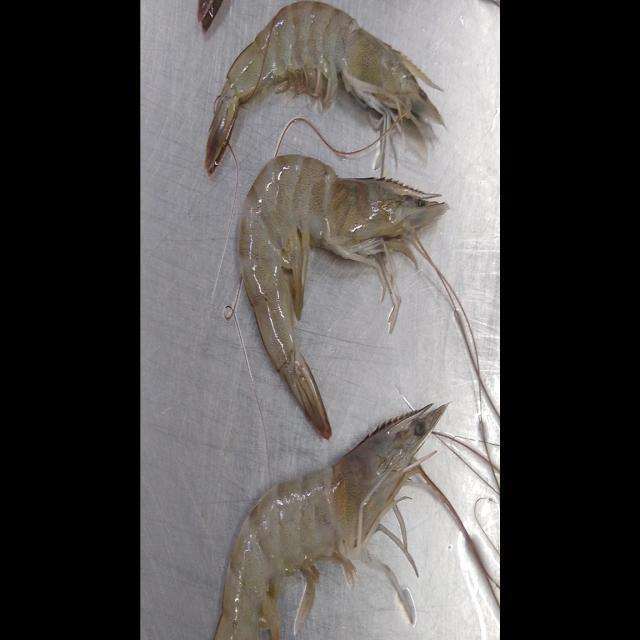shrimp: (213, 404, 484, 640), (239, 156, 448, 440), (205, 0, 442, 176)
